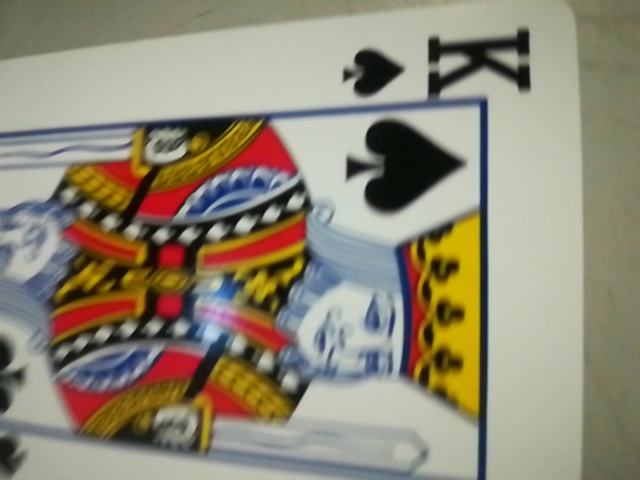ht k: (332, 32, 535, 108)
